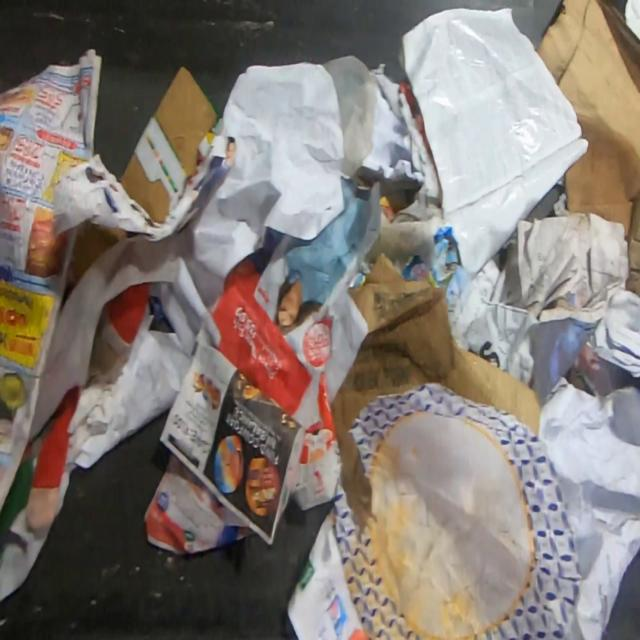cardboard: (330, 251, 539, 536), (536, 0, 640, 233), (118, 68, 221, 223), (66, 218, 126, 297)
